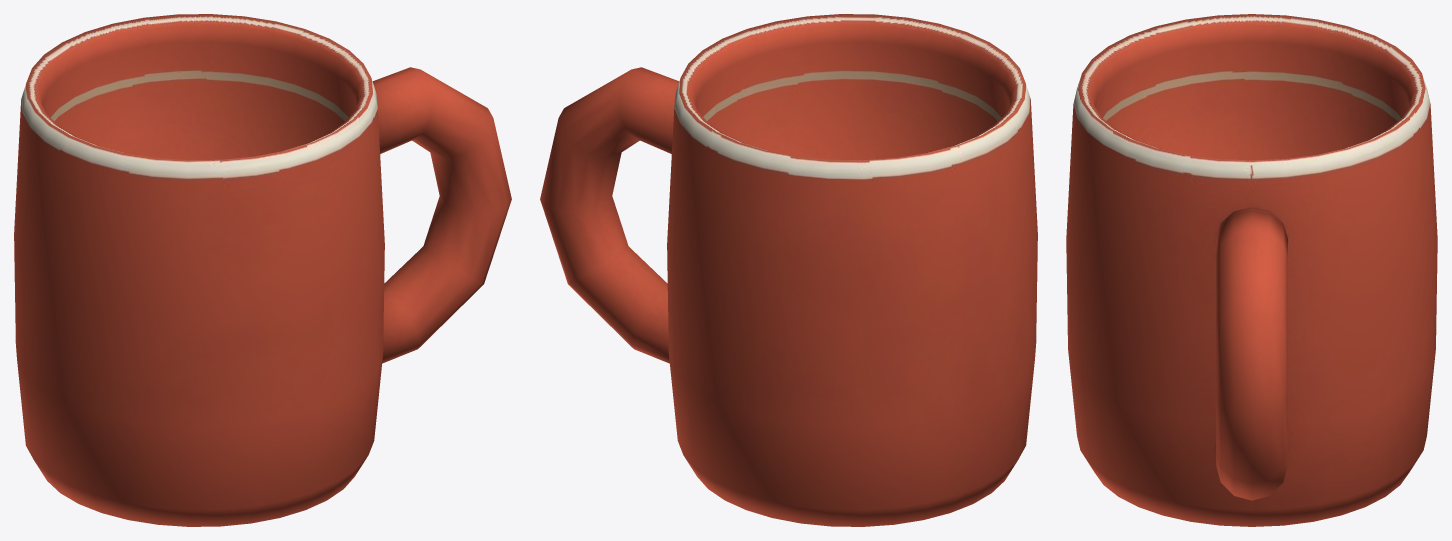
Rendered from mug_cocoa_b1.glb.
3 views of the same model, side by side, from view 1: azimuth 30°, elevation 25°; view 2: azimuth 150°, elevation 25°; view 3: azimuth 270°, elevation 25° (orthographic).
Visible parts, largest first — view 1: prop_mug_cocoa_b1_felt; view 2: prop_mug_cocoa_b1_felt; view 3: prop_mug_cocoa_b1_felt.
Boxes of the visible parts, x1=… form: prop_mug_cocoa_b1_felt: x1=14, y1=14, x2=511, y2=526; prop_mug_cocoa_b1_felt: x1=540, y1=14, x2=1037, y2=526; prop_mug_cocoa_b1_felt: x1=1066, y1=14, x2=1437, y2=526.
Size of the model in its own units: 0.1907 by 0.1447 by 0.131.
Materials: 1 (1 with a texture image).
